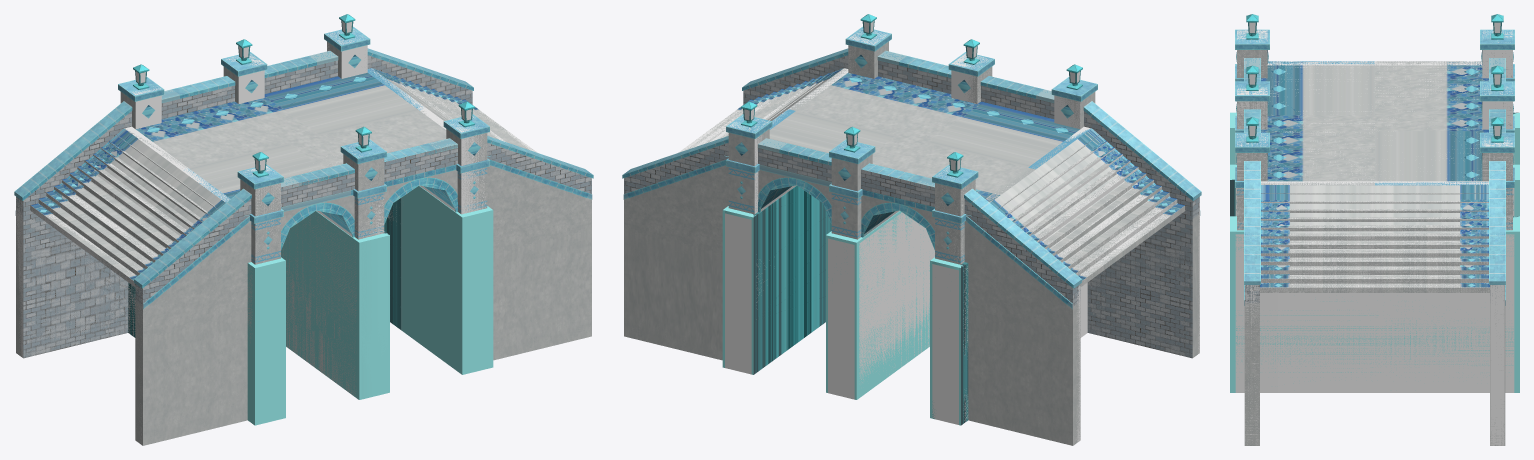
The model's file is objects_un_c02whitebridge01.gltf.
3 views of the same model, side by side, from view 1: azimuth 30°, elevation 25°; view 2: azimuth 150°, elevation 25°; view 3: azimuth 270°, elevation 25° (orthographic). The views are drawn at different scales.
Parts seen in each view (by area): view 1: um_objects_un_c02whitebridge01_model_lod0Shape:objects_un_c0 (×5), um_objects_un_c02whitebridge01_model_lod1Shape:objects_un_c0 (×2), um_objects_un_c02whitebridge01_model_lod2Shape:objects_un_c0 (×4), bridge_glass01_shape:objects_un_c02whitebridge01_glass01; view 2: um_objects_un_c02whitebridge01_model_lod0Shape:objects_un_c0 (×5), um_objects_un_c02whitebridge01_model_lod1Shape:objects_un_c0 (×2), um_objects_un_c02whitebridge01_model_lod2Shape:objects_un_c0 (×4), bridge_glass01_shape:objects_un_c02whitebridge01_glass01; view 3: um_objects_un_c02whitebridge01_model_lod0Shape:objects_un_c0 (×5), um_objects_un_c02whitebridge01_model_lod2Shape:objects_un_c0 (×4), um_objects_un_c02whitebridge01_model_lod1Shape:objects_un_c0 (×2), bridge_glass01_shape:objects_un_c02whitebridge01_glass01.
Part boxes in pixels (x1,y1,x2,y2): um_objects_un_c02whitebridge01_model_lod0Shape:objects_un_c0 (×5): [14, 17, 593, 445]; um_objects_un_c02whitebridge01_model_lod1Shape:objects_un_c0 (×2): [16, 14, 591, 444]; um_objects_un_c02whitebridge01_model_lod2Shape:objects_un_c0 (×4): [16, 28, 590, 444]; bridge_glass01_shape:objects_un_c02whitebridge01_glass01: [136, 21, 471, 170]; um_objects_un_c02whitebridge01_model_lod0Shape:objects_un_c0 (×5): [622, 17, 1201, 445]; um_objects_un_c02whitebridge01_model_lod1Shape:objects_un_c0 (×2): [624, 14, 1197, 445]; um_objects_un_c02whitebridge01_model_lod2Shape:objects_un_c0 (×4): [627, 31, 1199, 444]; bridge_glass01_shape:objects_un_c02whitebridge01_glass01: [744, 21, 1079, 170]; um_objects_un_c02whitebridge01_model_lod0Shape:objects_un_c0 (×5): [1230, 21, 1519, 445]; um_objects_un_c02whitebridge01_model_lod2Shape:objects_un_c0 (×4): [1237, 30, 1512, 445]; um_objects_un_c02whitebridge01_model_lod1Shape:objects_un_c0 (×2): [1230, 14, 1519, 445]; bridge_glass01_shape:objects_un_c02whitebridge01_glass01: [1249, 22, 1500, 135].
Size of what is drawn, in the model's own units: 19.58 by 10.85 by 10.63.
Materials: 7 (4 with a texture image).
